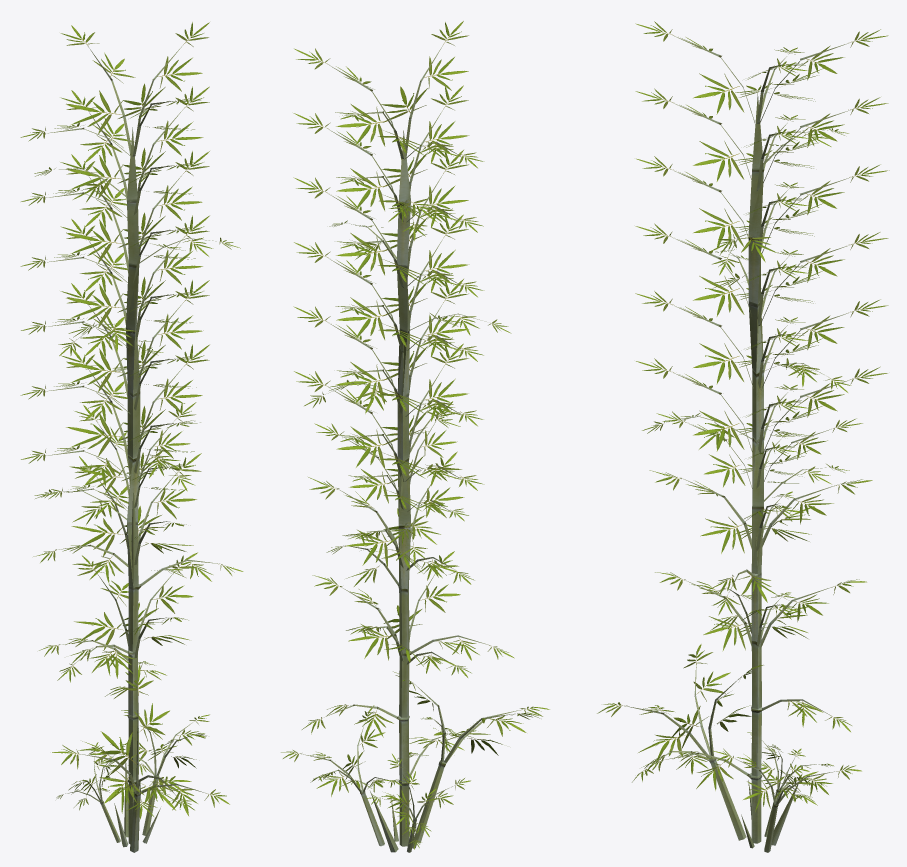
The model's file is bamburro.glb.
3 views of the same model, side by side, from view 1: azimuth 30°, elevation 25°; view 2: azimuth 150°, elevation 25°; view 3: azimuth 270°, elevation 25° (orthographic). The views are drawn at different scales.
Visible parts, largest first — view 1: Bamboo128, Bamboo30, Bamboo110, Bamboo80, Bamboo120, Bamboo90, Bamboo100, Bamboo50, Bamboo40, Bamboo70; view 2: Bamboo128, Bamboo30, Bamboo80, Bamboo90, Bamboo100, Bamboo110, Bamboo120, Bamboo50, Bamboo40, Bamboo70; view 3: Bamboo128, Bamboo30, Bamboo120, Bamboo100, Bamboo90, Bamboo50, Bamboo80, Bamboo110, Bamboo40, Bamboo70.
Boxes of the visible parts, box(x1,y1,x2,y2) form: Bamboo128: box(20, 22, 243, 843); Bamboo30: box(52, 664, 229, 852); Bamboo110: box(20, 151, 209, 329); Bamboo80: box(21, 344, 209, 518); Bamboo120: box(21, 86, 209, 229); Bamboo90: box(20, 280, 209, 422); Bamboo100: box(21, 215, 209, 358); Bamboo50: box(33, 453, 201, 583); Bamboo40: box(39, 552, 197, 675); Bamboo70: box(42, 402, 196, 586); Bamboo128: box(294, 21, 514, 846); Bamboo30: box(281, 671, 549, 852); Bamboo80: box(294, 343, 484, 524); Bamboo90: box(293, 279, 483, 514); Bamboo100: box(294, 214, 483, 395); Bamboo110: box(293, 150, 484, 330); Bamboo120: box(293, 85, 483, 232); Bamboo50: box(308, 451, 474, 584); Bamboo40: box(312, 551, 471, 677); Bamboo70: box(314, 401, 468, 521); Bamboo128: box(635, 21, 888, 843); Bamboo30: box(597, 644, 861, 852); Bamboo120: box(635, 88, 888, 237); Bamboo100: box(635, 223, 888, 372); Bamboo90: box(635, 291, 888, 389); Bamboo50: box(649, 470, 872, 553); Bamboo80: box(636, 358, 887, 454); Bamboo110: box(636, 156, 889, 253); Bamboo40: box(655, 572, 866, 651); Bamboo70: box(656, 411, 862, 574).
Bounding box in the file's own units: 35.58 × 122 × 41.09.
2 materials, 2 textured.
